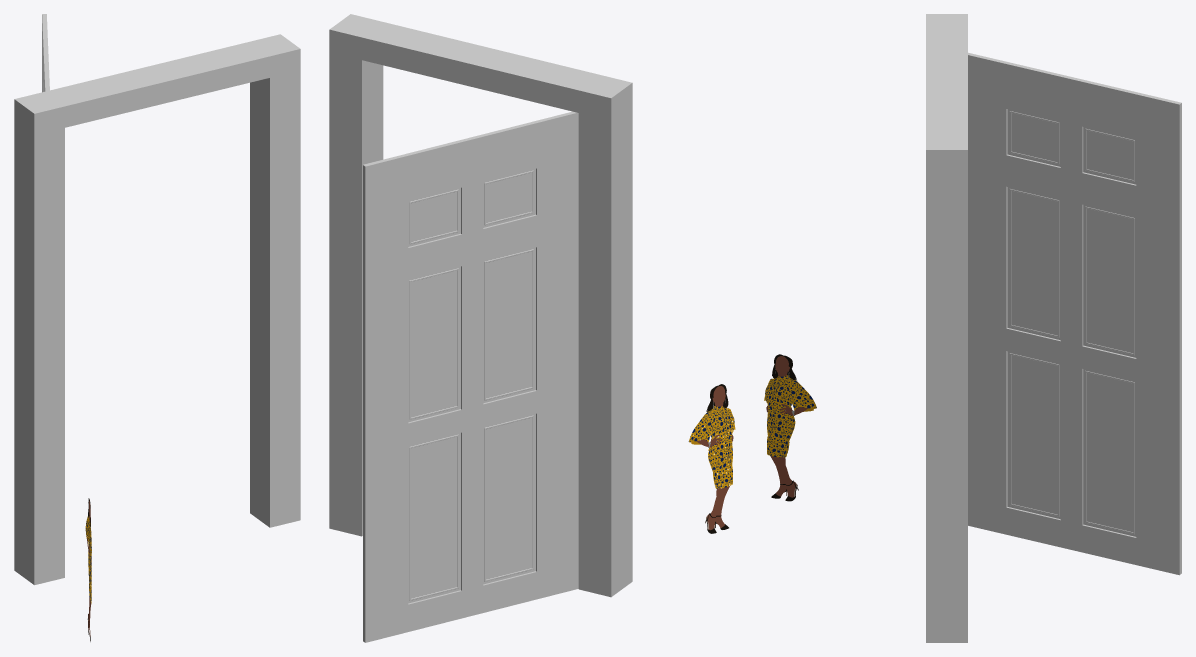
File: door 2.fbx
The picture shows the model from 3 angles, left to right: view 1: azimuth 30°, elevation 25°; view 2: azimuth 150°, elevation 25°; view 3: azimuth 270°, elevation 25°; orthographic projection. The views are drawn at different scales.
Parts seen in each view (by area): view 1: G_1_1, G_2_1, Sumele1; view 2: G_2_1, G_1_1, Sumele1; view 3: G_2_1, G_1_1, Sumele1.
Part boxes in pixels (x1,y1,x2,y2): G_1_1: (14,34,300,585); G_2_1: (42,14,49,92); Sumele1: (85,498,91,641); G_2_1: (363,111,578,642); G_1_1: (329,14,632,597); Sumele1: (688,384,735,533); G_2_1: (968,52,1181,575); G_1_1: (926,14,967,642); Sumele1: (764,354,816,501).
Size of the model in its own units: 140 by 220 by 169.
